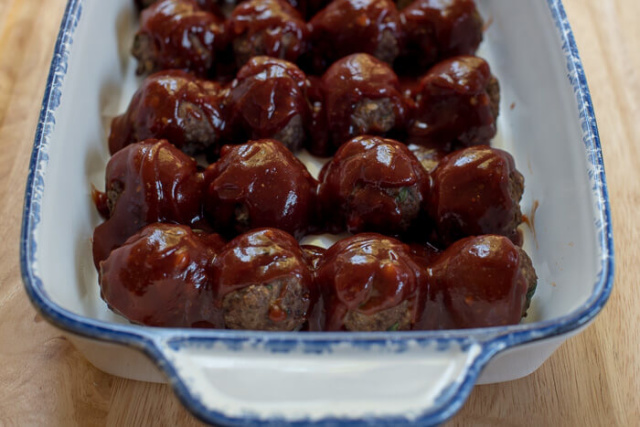meatballs: (432, 230, 536, 329), (211, 229, 311, 325), (327, 136, 428, 231), (331, 233, 420, 325), (435, 145, 523, 237), (110, 226, 198, 315), (223, 138, 303, 224), (423, 56, 500, 144), (110, 144, 189, 223), (324, 56, 408, 130), (225, 60, 306, 135), (134, 73, 210, 141), (138, 8, 218, 70), (405, 3, 480, 60), (316, 2, 392, 56), (228, 2, 298, 60)
